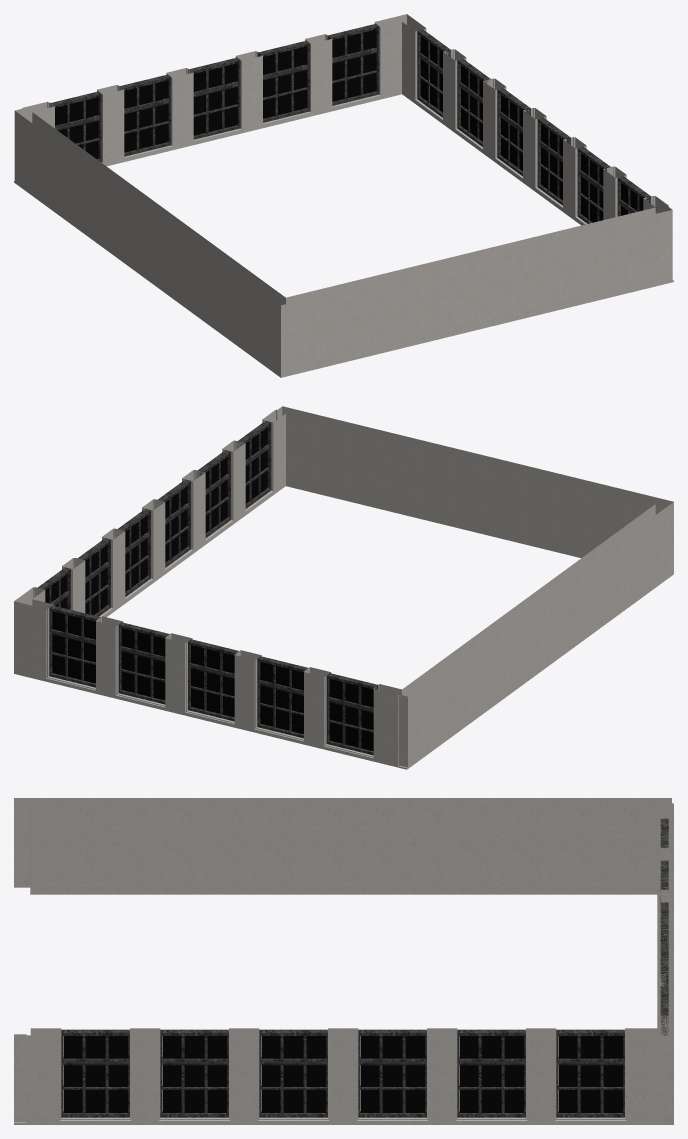
File: BuildingC_Mid_VarA.fbx
3 views of the same model, one above another, from view 1: azimuth 30°, elevation 25°; view 2: azimuth 150°, elevation 25°; view 3: azimuth 270°, elevation 25° (orthographic). The views are drawn at different scales.
Parts seen in each view (by area): view 1: BuildingC_Mid_VarA; view 2: BuildingC_Mid_VarA; view 3: BuildingC_Mid_VarA.
Part boxes in pixels (bbox=[...]): BuildingC_Mid_VarA: bbox=[14, 14, 673, 377]; BuildingC_Mid_VarA: bbox=[14, 406, 673, 769]; BuildingC_Mid_VarA: bbox=[14, 798, 673, 1124].
Bounding box in the file's own units: 1700 × 300 × 2000.
